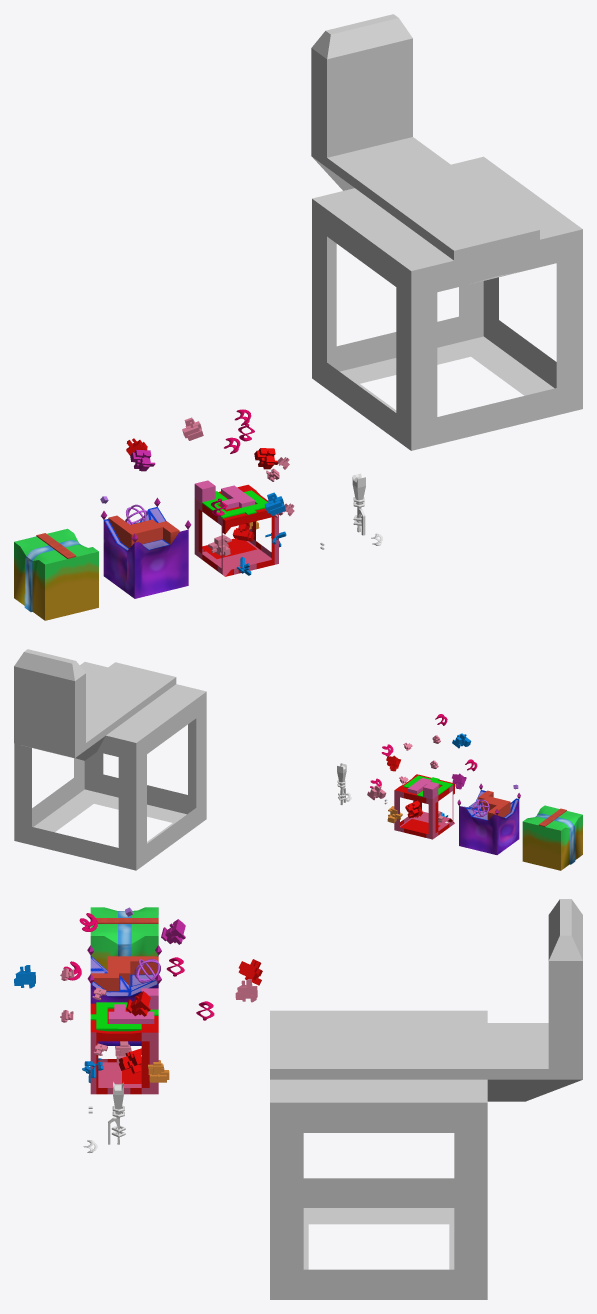
Rendered from Level 3 FINAL.fbx.
3 renders of one model, top to bottom at view 1: azimuth 30°, elevation 25°; view 2: azimuth 150°, elevation 25°; view 3: azimuth 270°, elevation 25°, orthographic. The views are drawn at different scales.
Parts seen in each view (by area): view 1: Cube, Level 1, Level 2, Level 3; view 2: Cube, Level 1, Level 2, Level 3, Torus.004; view 3: Cube, Level 3, Level 1, Level 2, Torus.004.
Part boxes in pixels (x1=…): Cube: x1=311, y1=14, x2=582, y2=450; Level 1: x1=14, y1=528, x2=98, y2=620; Level 2: x1=103, y1=507, x2=188, y2=598; Level 3: x1=194, y1=480, x2=278, y2=576; Cube: x1=14, y1=649, x2=206, y2=870; Level 1: x1=522, y1=805, x2=582, y2=870; Level 2: x1=459, y1=790, x2=519, y2=854; Level 3: x1=394, y1=774, x2=454, y2=839; Torus.004: x1=337, y1=763, x2=346, y2=804; Cube: x1=270, y1=899, x2=582, y2=1299; Level 3: x1=90, y1=988, x2=158, y2=1094; Level 1: x1=90, y1=907, x2=158, y2=970; Level 2: x1=90, y1=955, x2=158, y2=1045; Torus.004: x1=108, y1=1081, x2=125, y2=1144.
Bounding box in the file's own units: 13856 × 6678 × 10018.
